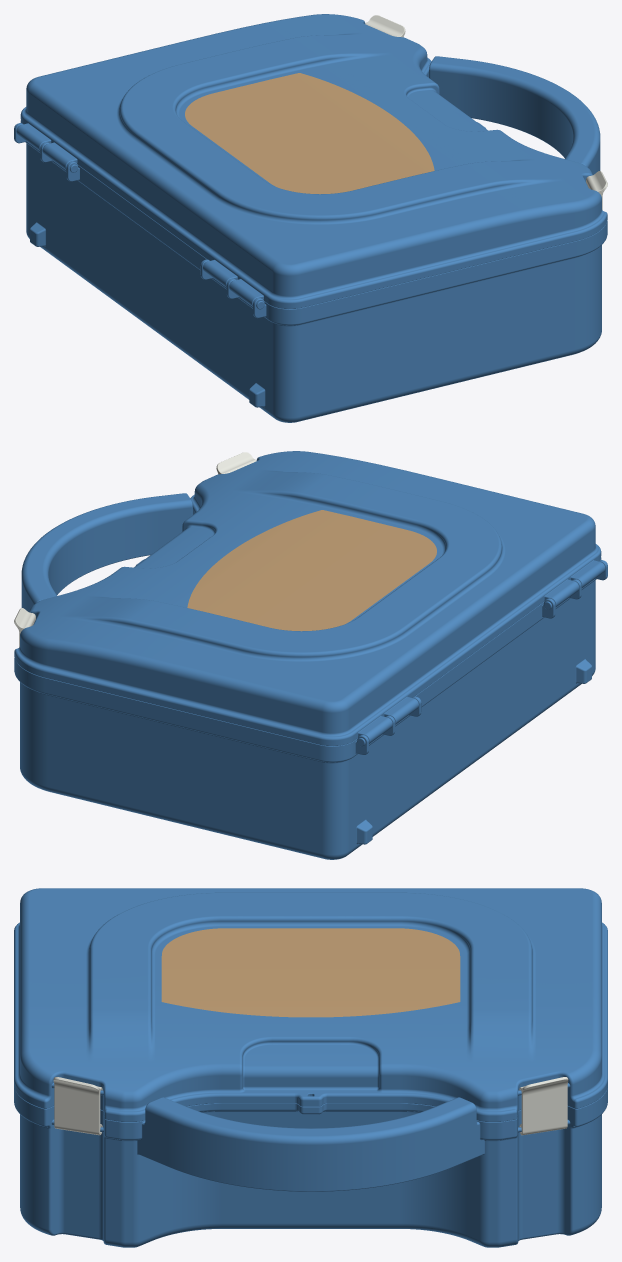
File: safety_firstAidKit_case_plastic_a01.glb
3 views of the same model, one above another, from view 1: azimuth 30°, elevation 25°; view 2: azimuth 150°, elevation 25°; view 3: azimuth 270°, elevation 25° (orthographic). The views are drawn at different scales.
Size of the model in its own units: 0.2926 by 0.104 by 0.3085.
